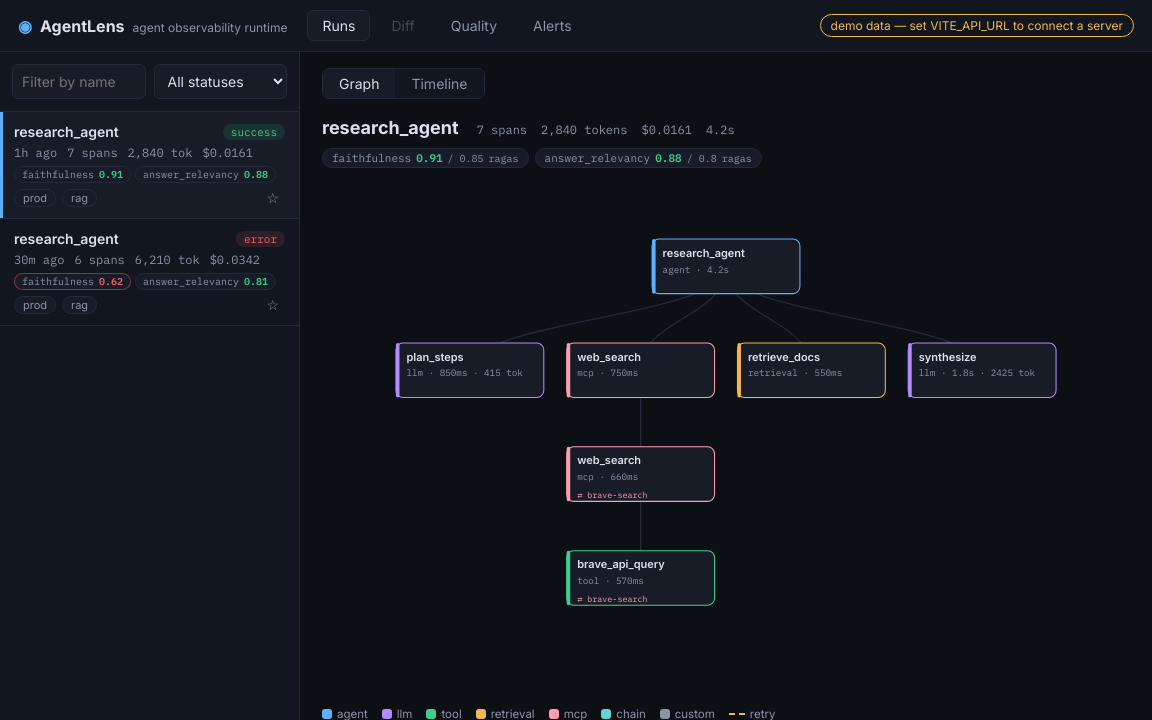
Test: App in demo mode › diffing two pinned runs shows the comparison
Click the button titled "Pin for diff" below "success": [273, 198] box [260,189,285,207]
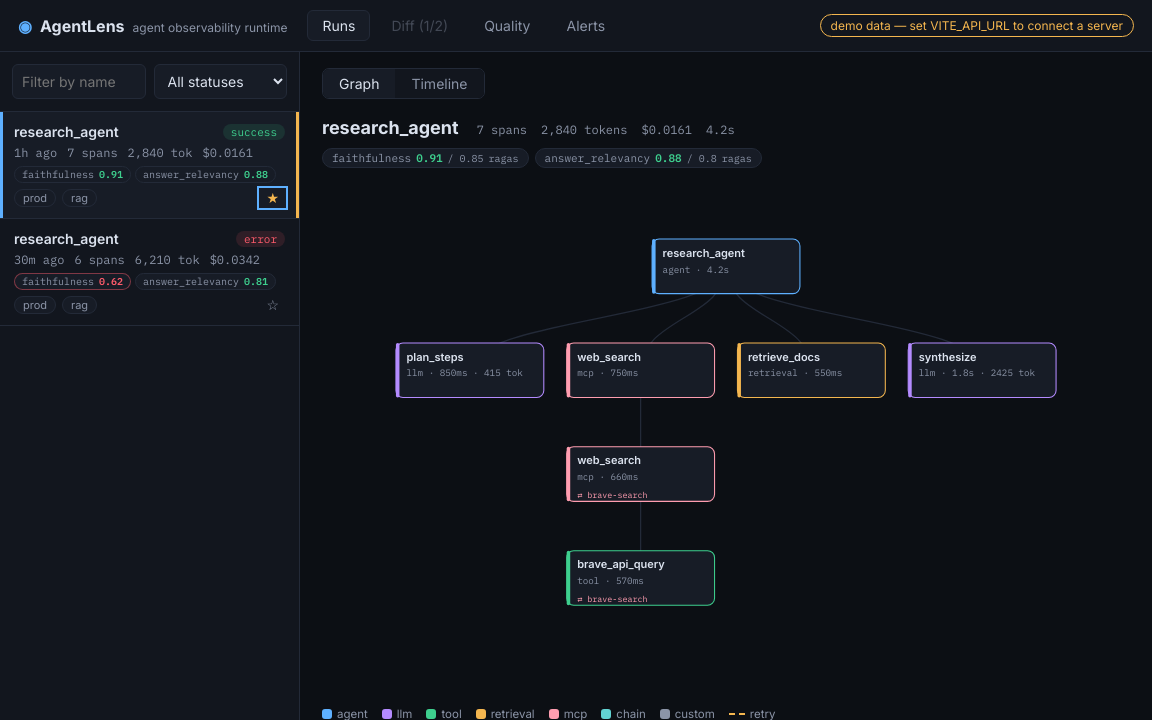
Click the button titled "Pin for diff": [273, 305] box [260,296,285,314]
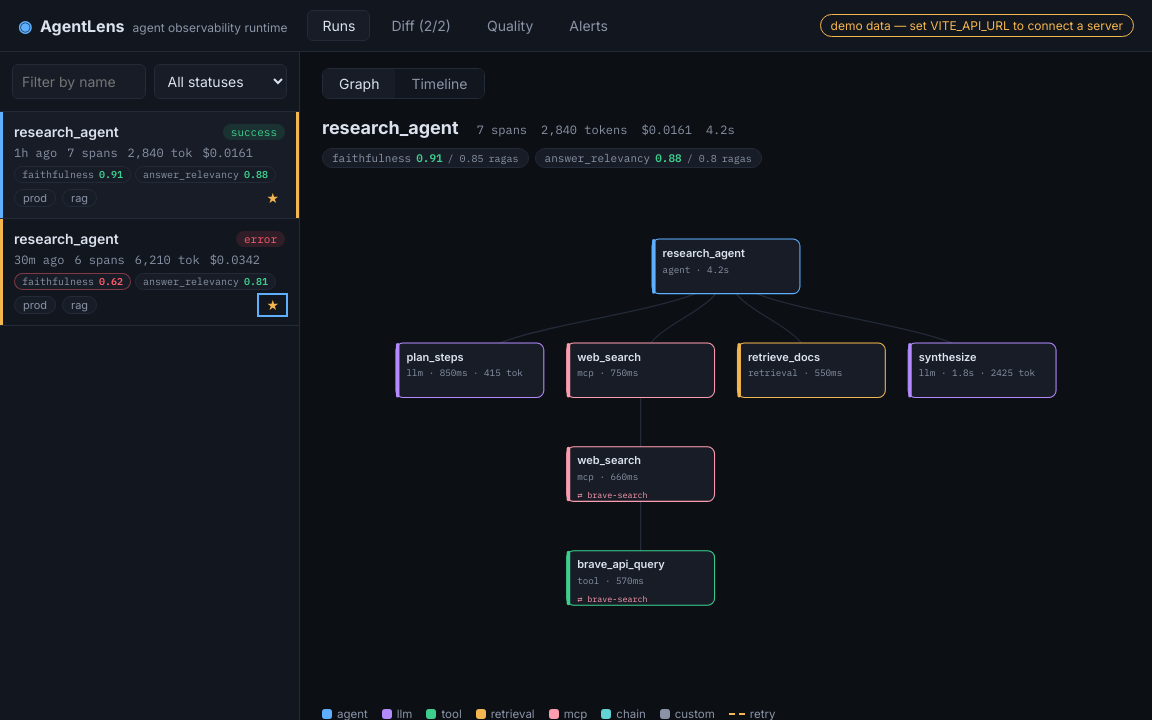
Click the button "Diff (2/2)": [421, 26] box [376,10,466,41]
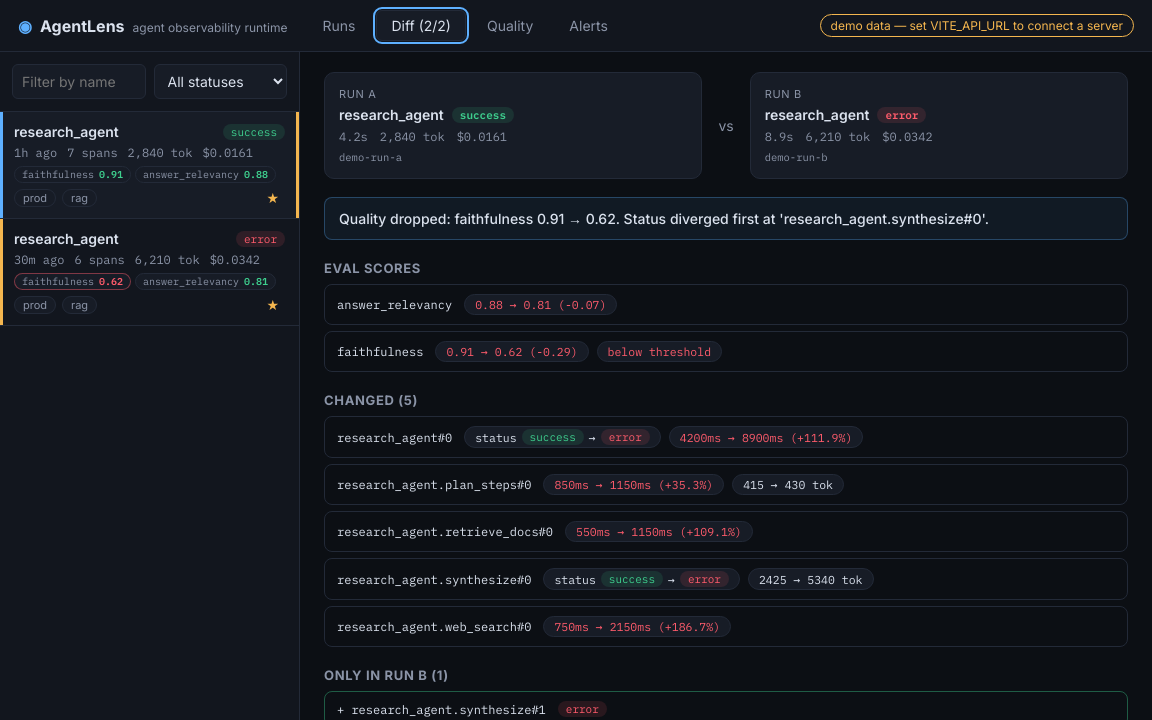
Check: the text with class "diff-verdict" is shown, box [324,197,1128,240]
Check: the text "Run A" is shown, box [339,87,376,101]
Check: the text "Run B" is shown, box [765,87,802,101]
